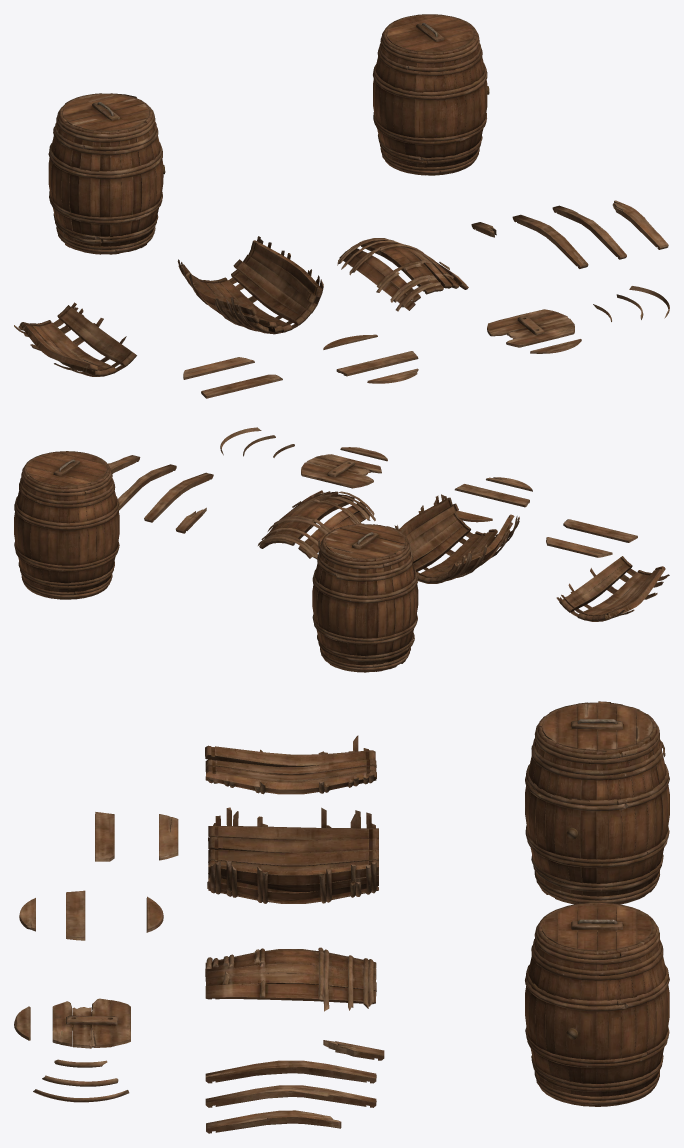
The model's file is wooden_barrels_01.glb.
3 renders of one model, top to bottom at view 1: azimuth 30°, elevation 25°; view 2: azimuth 150°, elevation 25°; view 3: azimuth 270°, elevation 25°, orthographic. The views are drawn at different scales.
Parts seen in each view (by area): view 1: wooden_barrels_01_barrel02, wooden_barrels_01_barrel01, wooden_barrels_01_piece01, wooden_barrels_01_piece03, wooden_barrels_01_piece02, wooden_barrels_01_piece08, wooden_barrels_01_piece04, wooden_barrels_01_piece05, wooden_barrels_01_piece06, wooden_barrels_01_piece11, wooden_barrels_01_piece14, wooden_barrels_01_piece13; view 2: wooden_barrels_01_barrel02, wooden_barrels_01_barrel01, wooden_barrels_01_piece01, wooden_barrels_01_piece03, wooden_barrels_01_piece02, wooden_barrels_01_piece08, wooden_barrels_01_piece04, wooden_barrels_01_piece14, wooden_barrels_01_piece11, wooden_barrels_01_piece05, wooden_barrels_01_piece13; view 3: wooden_barrels_01_barrel01, wooden_barrels_01_barrel02, wooden_barrels_01_piece01, wooden_barrels_01_piece03, wooden_barrels_01_piece02, wooden_barrels_01_piece08, wooden_barrels_01_piece04, wooden_barrels_01_piece05, wooden_barrels_01_piece06, wooden_barrels_01_piece11, wooden_barrels_01_piece14, wooden_barrels_01_piece13 (+1 smaller).
Boxes of the visible parts, x1,y1,x2,y2 form: wooden_barrels_01_barrel02: (48,93,165,254); wooden_barrels_01_barrel01: (373,14,489,175); wooden_barrels_01_piece01: (177,236,323,334); wooden_barrels_01_piece03: (337,238,468,311); wooden_barrels_01_piece02: (14,302,136,376); wooden_barrels_01_piece08: (487,309,574,347); wooden_barrels_01_piece04: (512,214,588,268); wooden_barrels_01_piece05: (552,205,626,259); wooden_barrels_01_piece06: (612,200,668,249); wooden_barrels_01_piece11: (336,351,418,376); wooden_barrels_01_piece14: (201,374,282,398); wooden_barrels_01_piece13: (183,357,254,379); wooden_barrels_01_barrel02: (312,523,418,672); wooden_barrels_01_barrel01: (14,451,119,599); wooden_barrels_01_piece01: (394,494,519,583); wooden_barrels_01_piece03: (258,490,375,559); wooden_barrels_01_piece02: (556,556,669,621); wooden_barrels_01_piece08: (301,454,381,488); wooden_barrels_01_piece04: (144,472,213,522); wooden_barrels_01_piece14: (563,519,637,542); wooden_barrels_01_piece11: (454,484,529,507); wooden_barrels_01_piece05: (118,464,176,510); wooden_barrels_01_piece13: (546,537,612,557); wooden_barrels_01_barrel01: (525,902,669,1106); wooden_barrels_01_barrel02: (525,701,669,904); wooden_barrels_01_piece01: (207,807,378,903); wooden_barrels_01_piece03: (205,947,376,1011); wooden_barrels_01_piece02: (205,735,376,794); wooden_barrels_01_piece08: (52,998,130,1048); wooden_barrels_01_piece04: (205,1060,376,1083); wooden_barrels_01_piece05: (205,1085,376,1107); wooden_barrels_01_piece06: (206,1110,341,1133); wooden_barrels_01_piece11: (66,890,85,940); wooden_barrels_01_piece14: (95,812,114,861); wooden_barrels_01_piece13: (159,814,178,860).
Bounding box in the file's own units: 4.44 × 0.9551 × 3.34.
3 materials, 3 textured.
